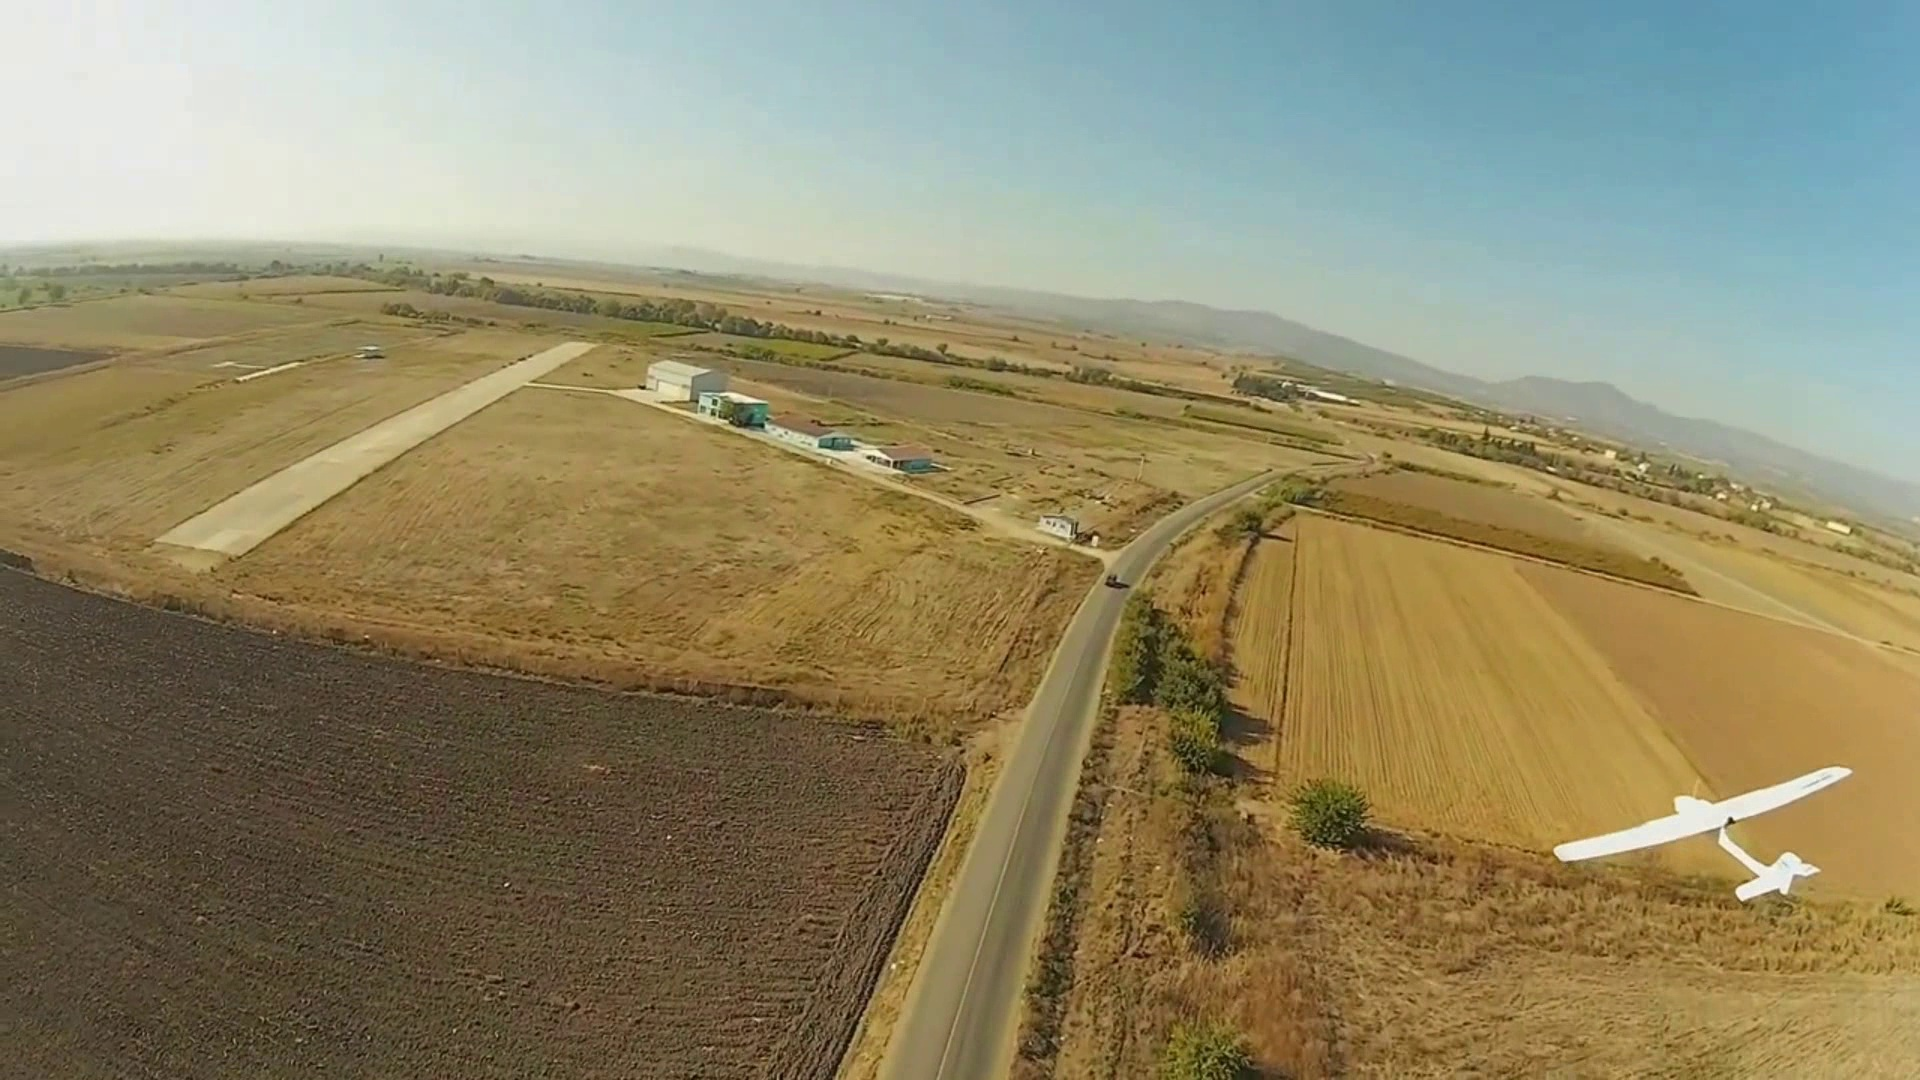airplane: (1551, 768, 1853, 909)
